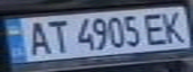0: (106, 14, 127, 50)
4: (72, 16, 93, 51)
5: (121, 12, 145, 47)
9: (90, 15, 112, 51)
A: (21, 18, 54, 56)
E: (139, 10, 172, 46)
K: (157, 9, 193, 44)
T: (42, 17, 72, 54)
